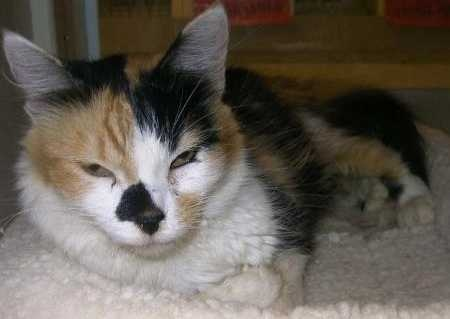Cat: (3, 6, 238, 254)
